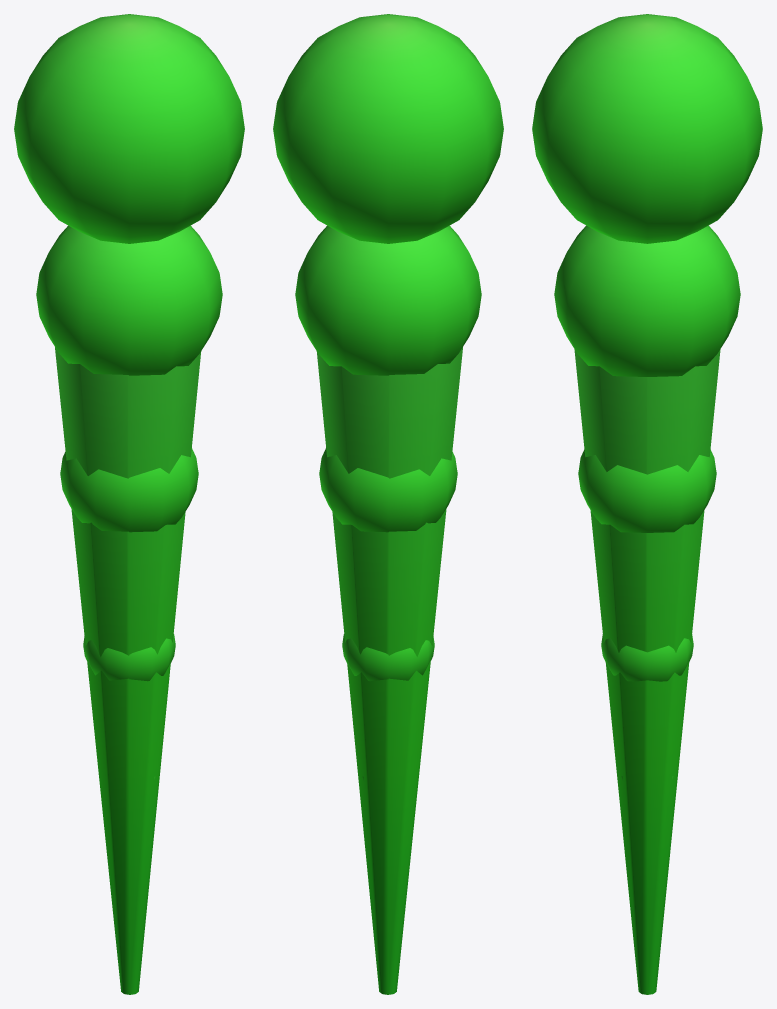
The model's file is arrowAnimation08.fbx.
3 renders of one model, left to right at view 1: azimuth 30°, elevation 25°; view 2: azimuth 150°, elevation 25°; view 3: azimuth 270°, elevation 25°, orthographic.
Parts seen in each view (by area): view 1: frame6, frame5, frame4, frame3; view 2: frame6, frame5, frame4, frame3; view 3: frame6, frame5, frame4, frame3.
Boxes of the visible parts, <box> form: frame6: <box>14,14,244,994</box>; frame5: <box>36,225,222,375</box>; frame4: <box>60,448,198,532</box>; frame3: <box>83,634,175,681</box>; frame6: <box>273,14,503,994</box>; frame5: <box>295,225,481,375</box>; frame4: <box>319,448,457,532</box>; frame3: <box>342,634,434,681</box>; frame6: <box>532,14,762,994</box>; frame5: <box>554,225,740,376</box>; frame4: <box>578,449,716,532</box>; frame3: <box>601,634,693,681</box>.
Size of the model in its own units: 0.00473 by 0.0219 by 0.00473.
